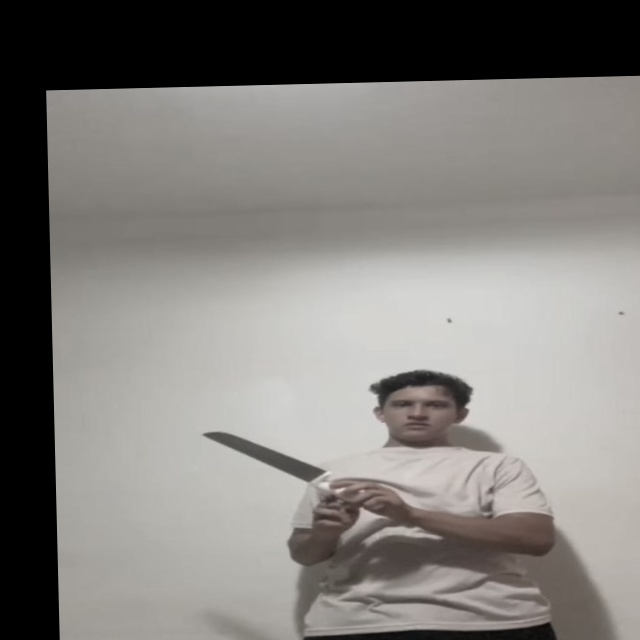Sharp-Object: (198, 427, 331, 478)
